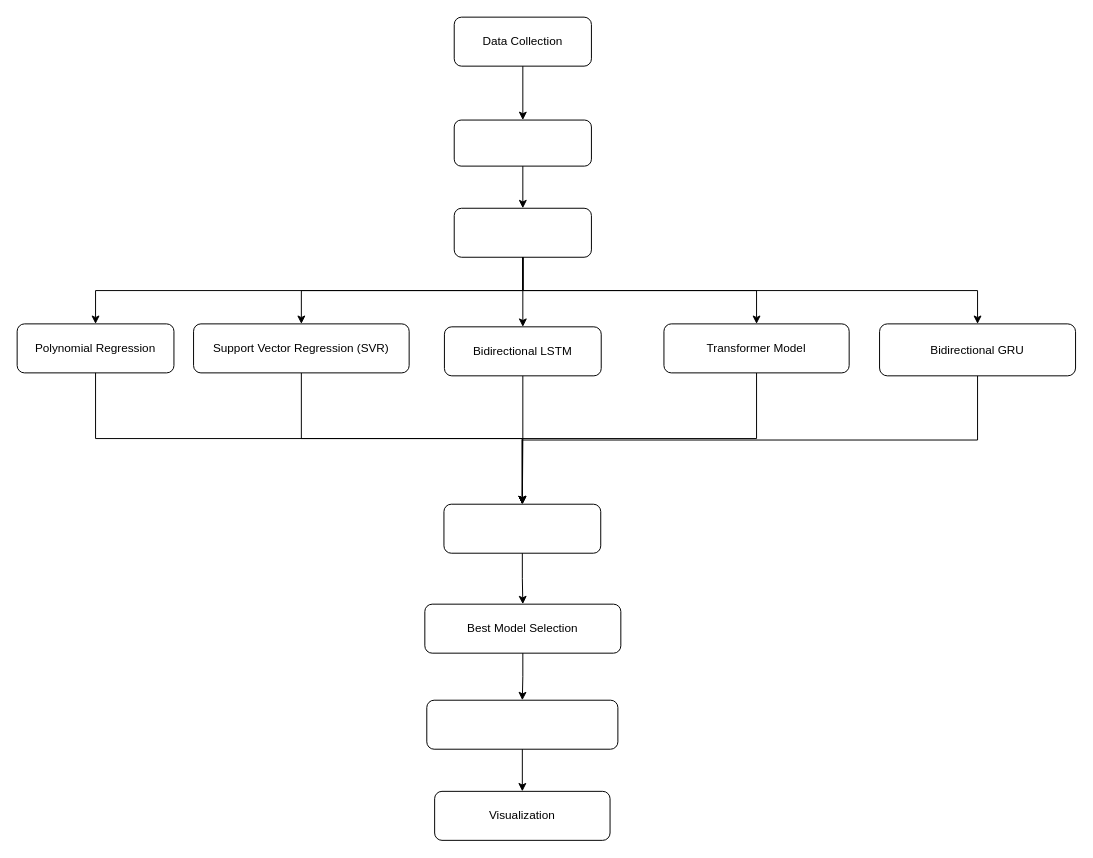
Image size: 1093x858. Some labels were removed from this diagram. The centre of each missing label's shape, as x and y in pixels:
Data Preprocessing: point 522,142
Future Predictions: point 522,724
Model Building: point 522,232
Model Evaluation: point 522,528
